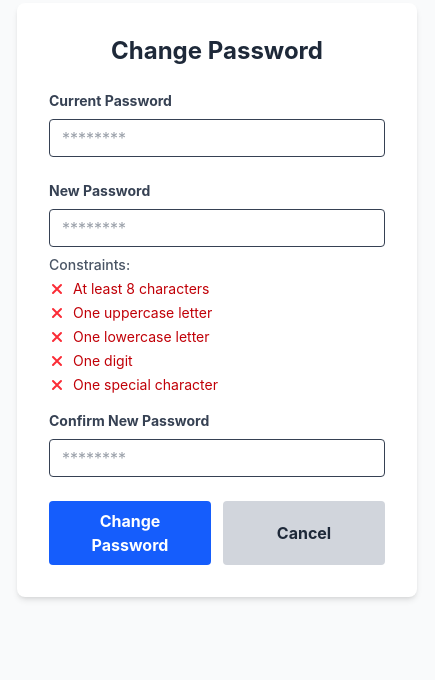
Test: ChangePasswordPage › should show error if password does not meet requirements
Type "OldPass123!" into the password field labelled "Current Password" at {"x": 217, "y": 138}, box [49,119,385,157]
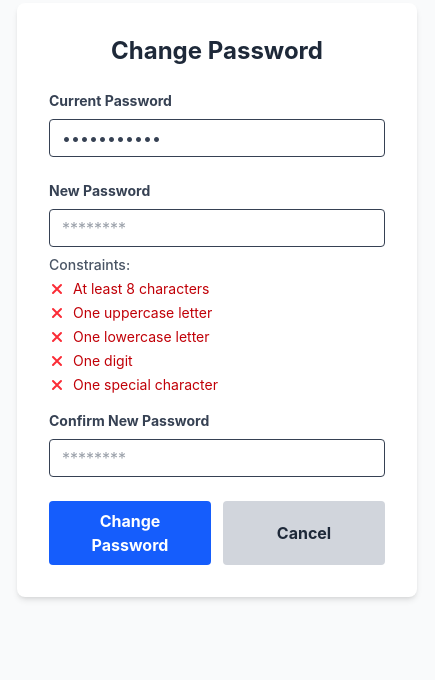
Type "weak" into the password field labelled "New Password" at {"x": 217, "y": 228}, box [49,209,385,247]
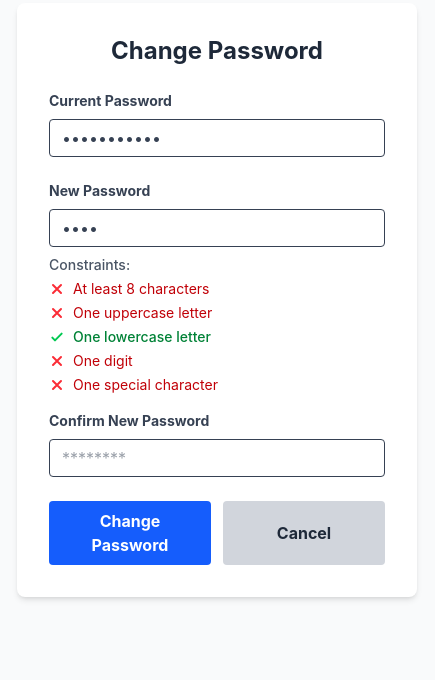
Type "weak" into the password field labelled "Confirm New Password" at {"x": 217, "y": 458}, box [49,439,385,477]
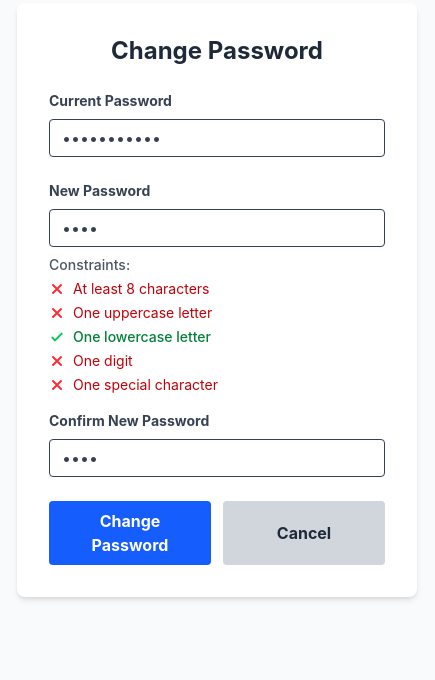
Click the button "Change Password" at {"x": 130, "y": 533}, box [49,501,211,565]
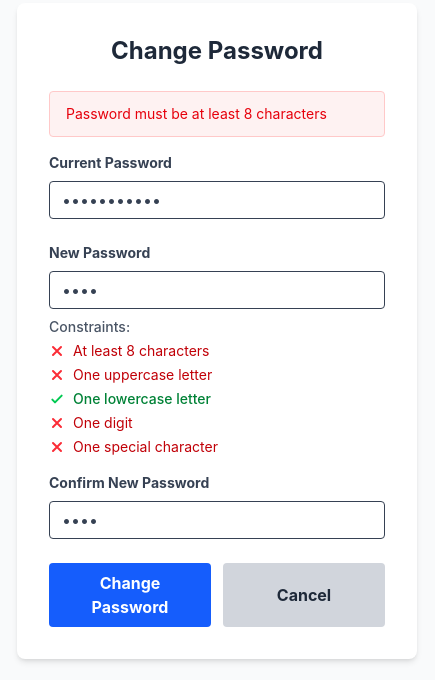
Expected: the text "Password must be at least 8 characters" is shown, [66,105,327,122]
